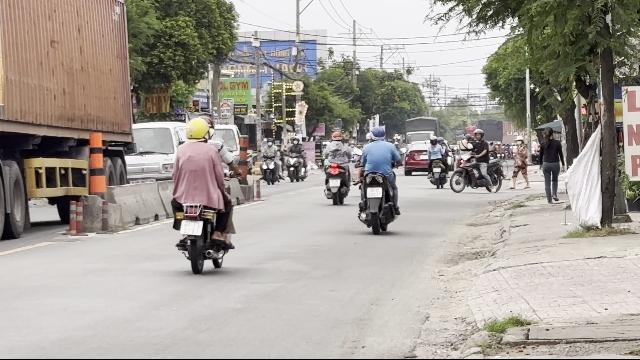helmet: (184, 117, 210, 141), (370, 126, 386, 142)
licenseplate: (181, 220, 203, 236), (368, 187, 382, 197)
motorcyclist: (166, 115, 238, 272), (352, 126, 404, 234)
